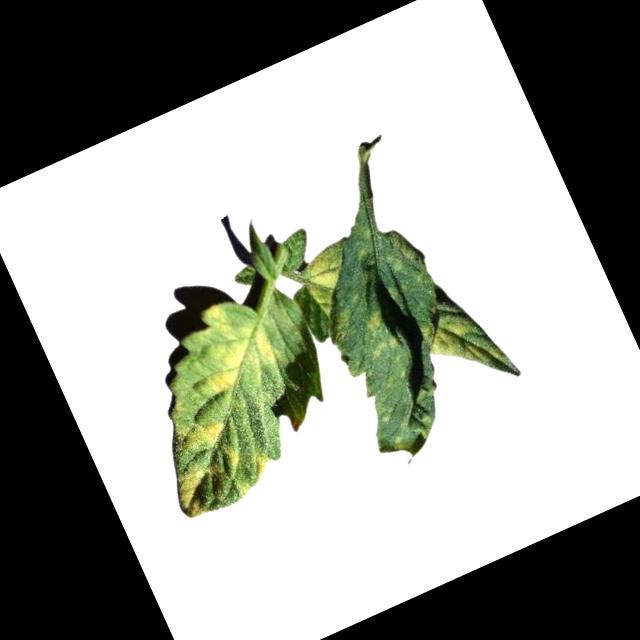Leaf_Mold: (176, 287, 286, 398), (423, 309, 489, 379), (168, 454, 231, 523), (165, 408, 232, 462), (297, 243, 354, 303), (355, 307, 403, 364), (250, 451, 276, 482)
